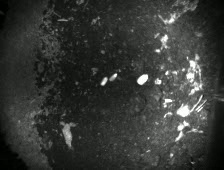corn: (134, 71, 150, 86), (106, 71, 119, 84), (98, 74, 110, 87)
